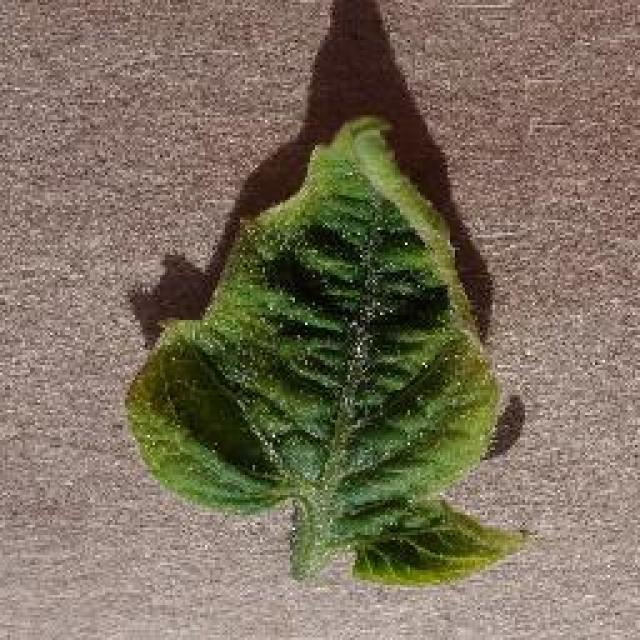Tomato yellow virus leaf: (123, 116, 535, 586)
